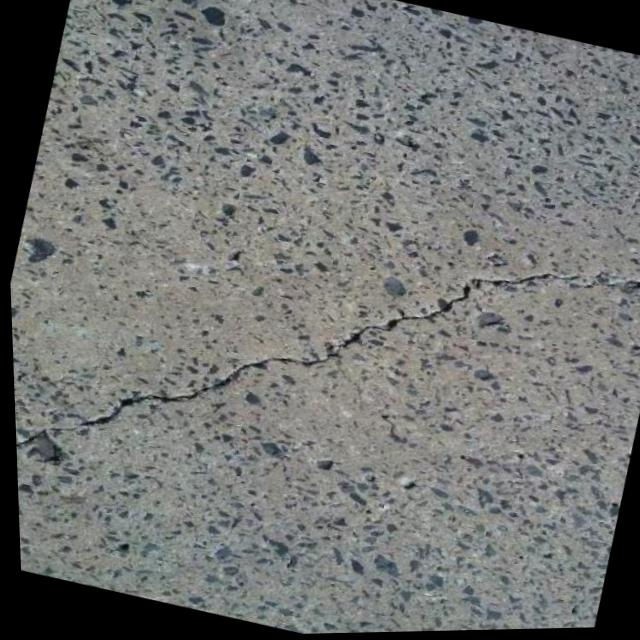Crack: (4, 120, 640, 624)
